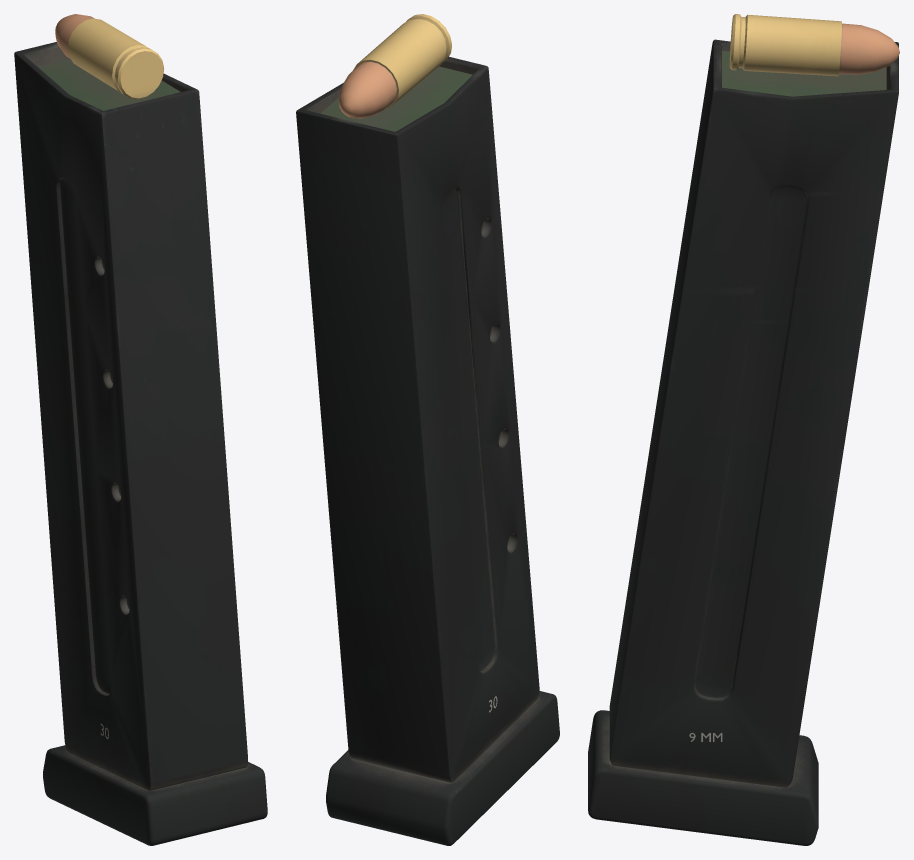
The model's file is carregador_smg_30.glb.
3 renders of one model, left to right at view 1: azimuth 30°, elevation 25°; view 2: azimuth 150°, elevation 25°; view 3: azimuth 270°, elevation 25°, orthographic. The views are drawn at different scales.
Parts seen in each view (by area): view 1: carregador_smg_30_carregador; view 2: carregador_smg_30_carregador; view 3: carregador_smg_30_carregador.
Boxes of the visible parts, x1=… form: carregador_smg_30_carregador: x1=14, y1=14, x2=267, y2=845; carregador_smg_30_carregador: x1=296, y1=14, x2=559, y2=845; carregador_smg_30_carregador: x1=588, y1=14, x2=899, y2=845.
Size of the model in its own units: 0.0252 by 0.1547 by 0.0547.
Materials: 1 (1 with a texture image).
